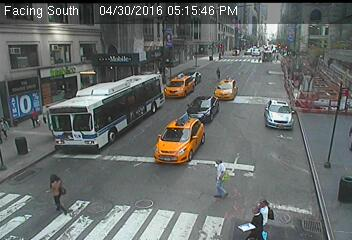neg: (303, 126, 334, 167), (161, 127, 185, 159), (62, 127, 86, 159), (97, 99, 119, 127), (302, 71, 323, 100), (119, 39, 139, 66), (258, 102, 277, 127), (331, 176, 349, 200), (253, 36, 269, 58), (168, 29, 184, 50), (101, 66, 114, 83), (41, 44, 52, 58)
pos: (36, 171, 68, 213), (206, 157, 234, 195), (239, 203, 262, 234), (260, 193, 281, 220), (27, 106, 43, 127), (1, 115, 14, 132), (210, 63, 223, 80)
